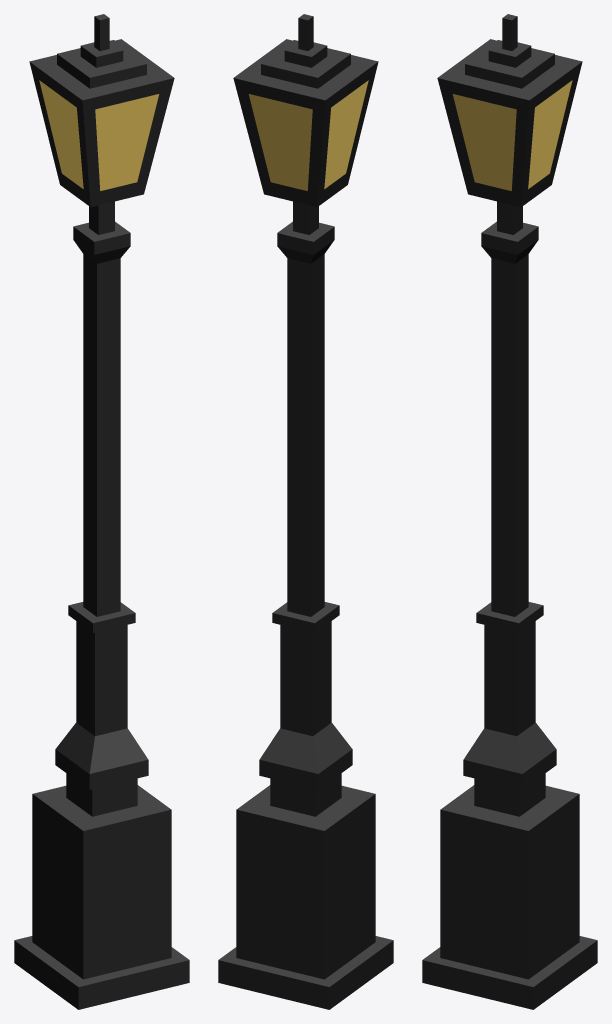
File: SM_ParkLight_Single_01.fbx
The picture shows the model from 3 angles, left to right: view 1: azimuth 30°, elevation 25°; view 2: azimuth 150°, elevation 25°; view 3: azimuth 330°, elevation 25°; orthographic projection.
Visible parts, largest first — view 1: SM_ParkLight_Single_01; view 2: SM_ParkLight_Single_01; view 3: SM_ParkLight_Single_01.
Boxes of the visible parts, bbox=[...] form: SM_ParkLight_Single_01: bbox=[14, 14, 189, 1009]; SM_ParkLight_Single_01: bbox=[218, 14, 393, 1009]; SM_ParkLight_Single_01: bbox=[422, 14, 597, 1009].
Size of the model in its own units: 0.613 by 5.03 by 0.613.
